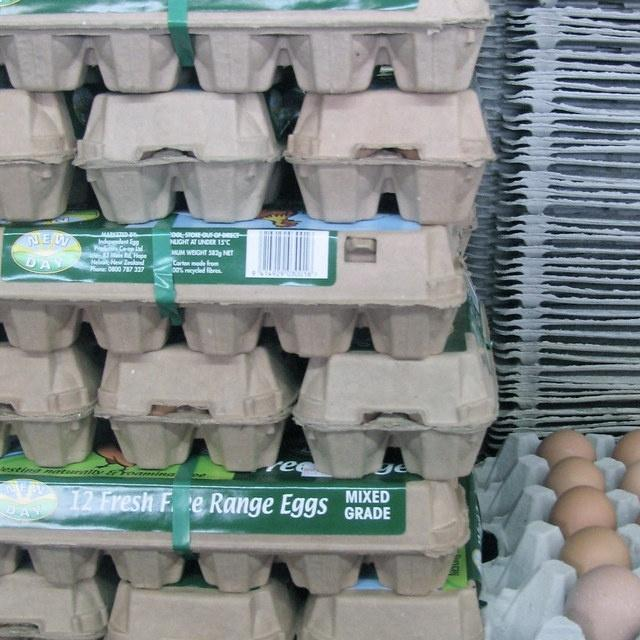egg: (564, 564, 640, 640), (558, 525, 631, 577), (549, 485, 616, 537), (545, 456, 604, 496), (536, 429, 595, 467), (612, 429, 640, 466), (620, 457, 640, 505)
